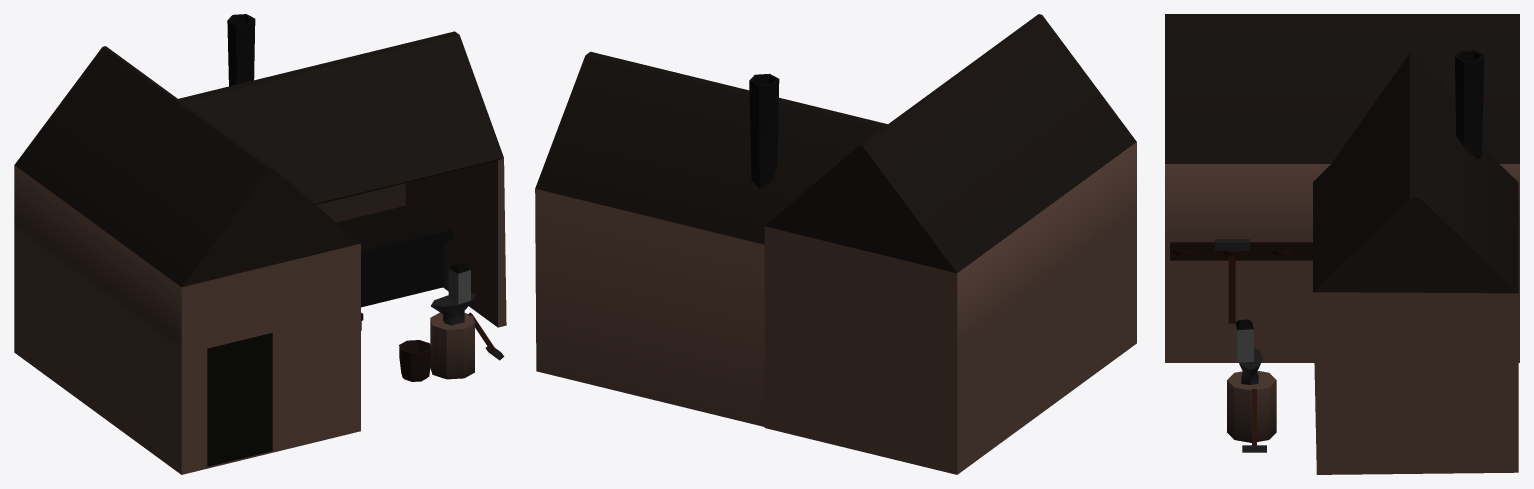
The model's file is Crafter.fbx.
The picture shows the model from 3 angles, left to right: view 1: azimuth 30°, elevation 25°; view 2: azimuth 150°, elevation 25°; view 3: azimuth 270°, elevation 25°; orthographic projection. The views are drawn at different scales.
Parts seen in each view (by area): view 1: BlackSmithHouse, lantern; view 2: BlackSmithHouse; view 3: BlackSmithHouse, lantern.
Part boxes in pixels (bbox=[...]): BlackSmithHouse: bbox=[14, 14, 506, 474]; lantern: bbox=[448, 262, 470, 304]; BlackSmithHouse: bbox=[535, 14, 1136, 474]; BlackSmithHouse: bbox=[1165, 14, 1519, 474]; lantern: bbox=[1235, 319, 1253, 362].
Bounding box in the file's own units: 13.88 × 10.09 × 10.13.
